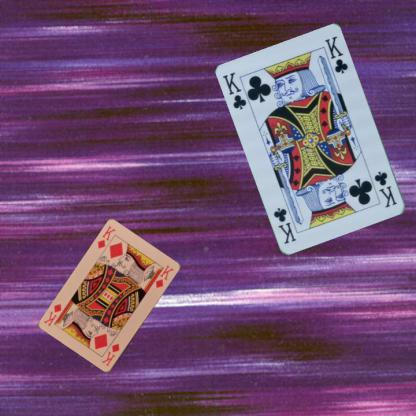Kc: (220, 70, 249, 112), (372, 169, 399, 209)
Kd: (94, 223, 116, 250), (99, 341, 121, 367)
